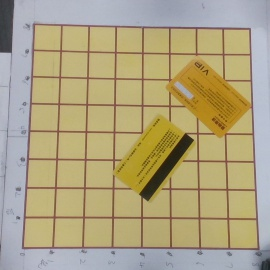card: (113, 112, 198, 204), (163, 55, 252, 141)
